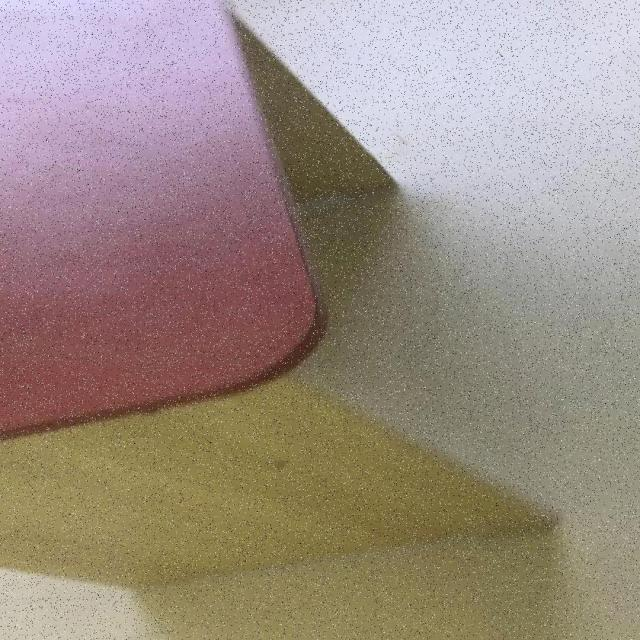Sponge: (0, 1, 331, 450), (0, 373, 561, 589)
